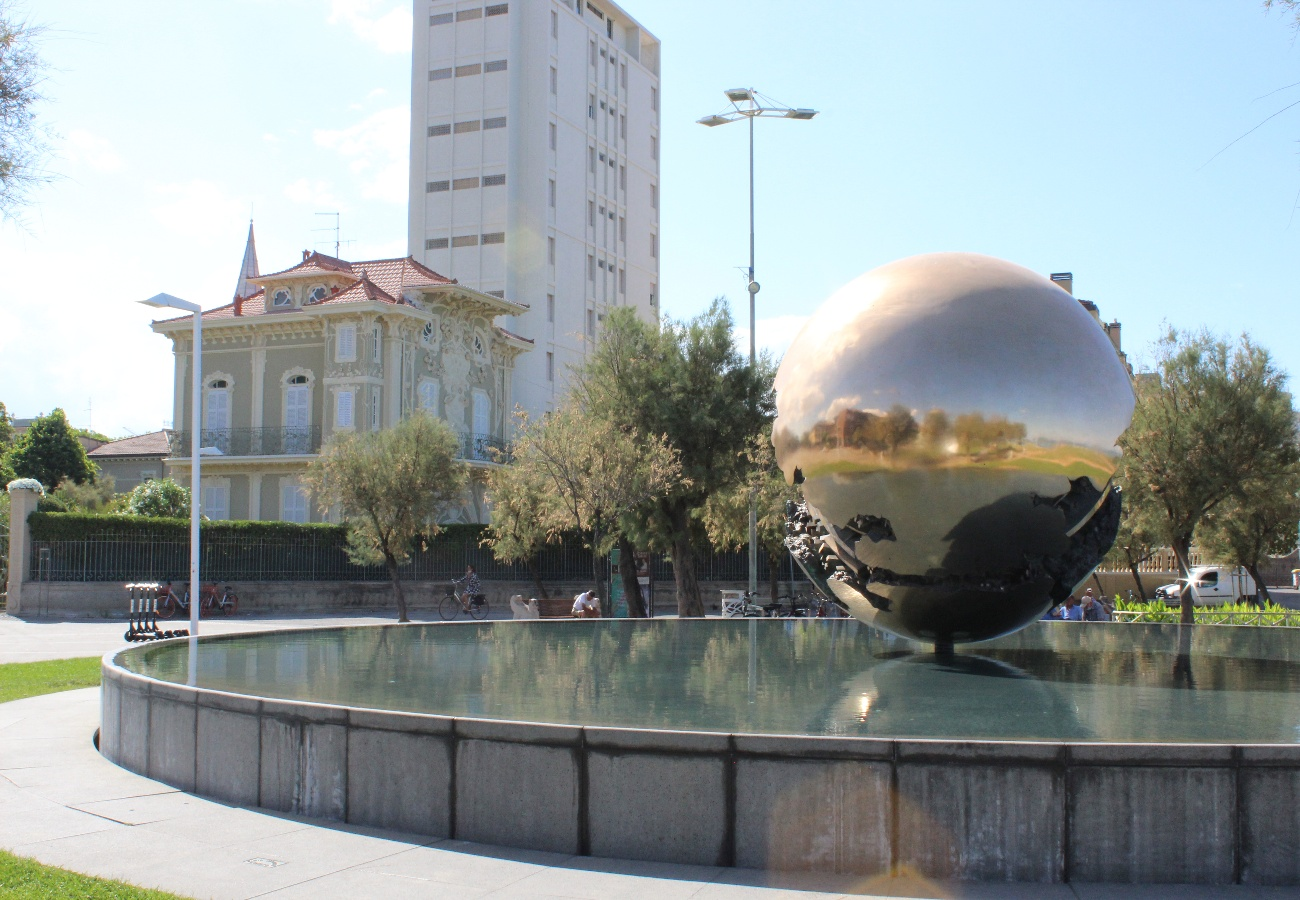Palla di Pomodoro: (771, 247, 1138, 637)
Villino Ruggeri: (151, 210, 542, 594)
